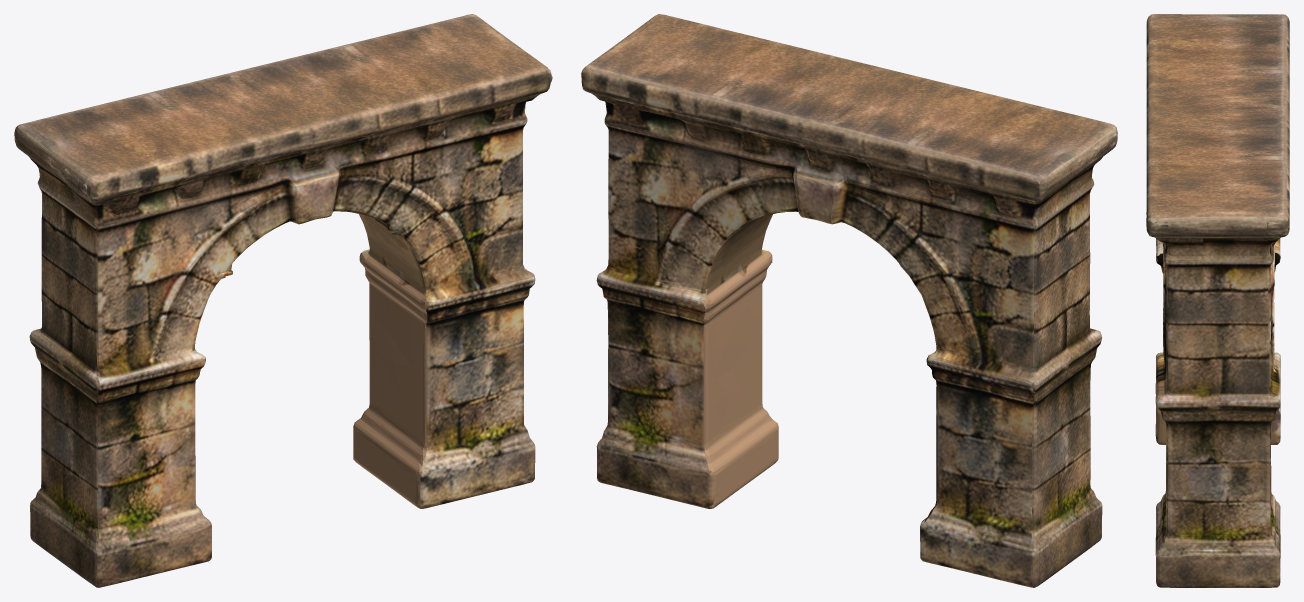
File: arena_arch_1117.glb
3 views of the same model, side by side, from view 1: azimuth 30°, elevation 25°; view 2: azimuth 150°, elevation 25°; view 3: azimuth 270°, elevation 25° (orthographic). The views are drawn at different scales.
Parts seen in each view (by area): view 1: tmpfi2c82q4.ply; view 2: tmpfi2c82q4.ply; view 3: tmpfi2c82q4.ply.
Boxes of the visible parts, x1,y1,x2,y2 form: tmpfi2c82q4.ply: [14, 14, 552, 587]; tmpfi2c82q4.ply: [581, 14, 1117, 587]; tmpfi2c82q4.ply: [1146, 14, 1289, 587].
Bounding box in the file's own units: 1.17 × 1 × 0.3437.
1 material, 1 textured.
